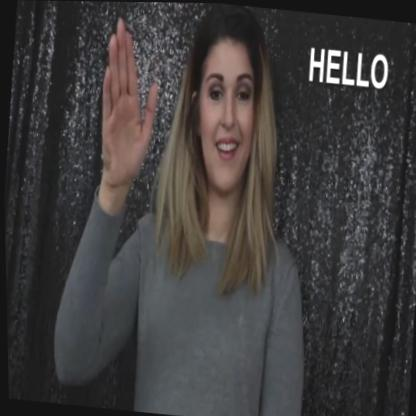Hello: (83, 1, 284, 244)
